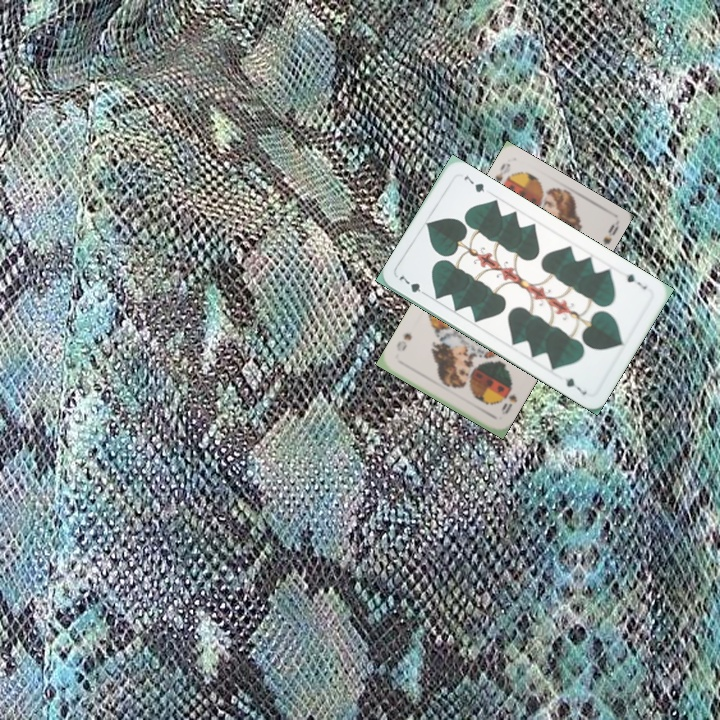G7: (395, 272, 431, 299), (622, 270, 650, 292)
SO: (497, 390, 520, 417), (491, 158, 513, 185)
